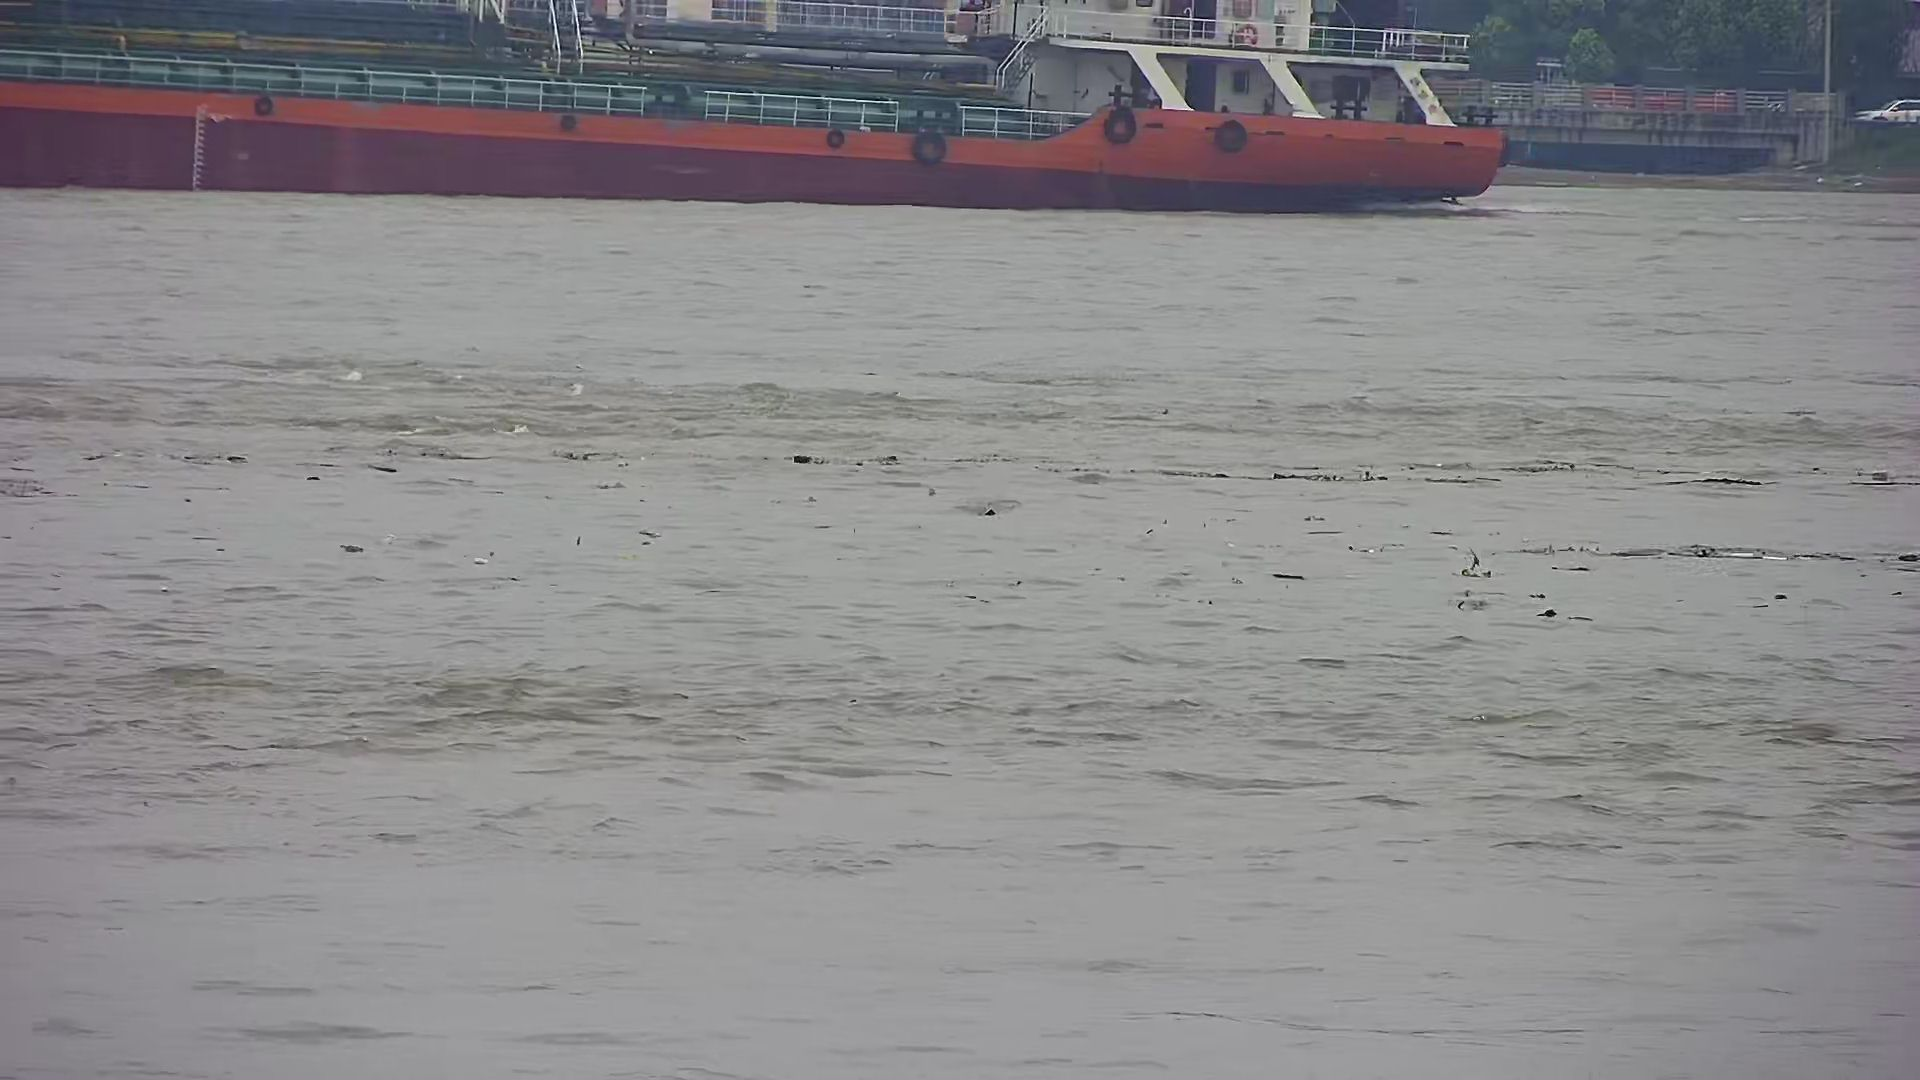ship: (4, 4, 1511, 218)
